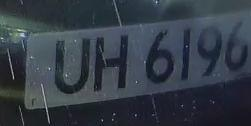1: (175, 26, 197, 87)
6: (141, 24, 180, 93), (221, 18, 250, 76)
9: (194, 24, 225, 82)
H: (91, 31, 132, 95)
U: (48, 32, 93, 99)
